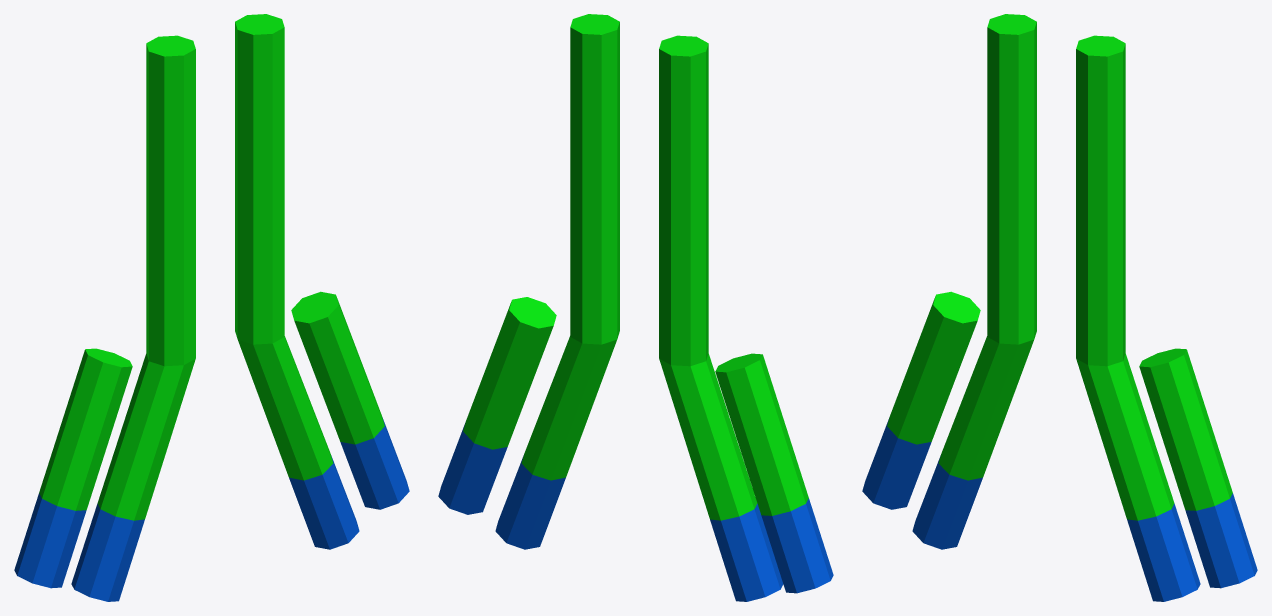
Rendered from Antibody.fbx.
3 renders of one model, left to right at view 1: azimuth 30°, elevation 25°; view 2: azimuth 150°, elevation 25°; view 3: azimuth 330°, elevation 25°, orthographic.
Visible parts, largest first — view 1: Antibody; view 2: Antibody; view 3: Antibody.
Part boxes in pixels (left/top/right/bottom): Antibody: left=14, top=14, right=409, bottom=601; Antibody: left=438, top=14, right=833, bottom=601; Antibody: left=862, top=14, right=1257, bottom=601.
Size of the model in its own units: 98.72 by 130 by 12.78.
